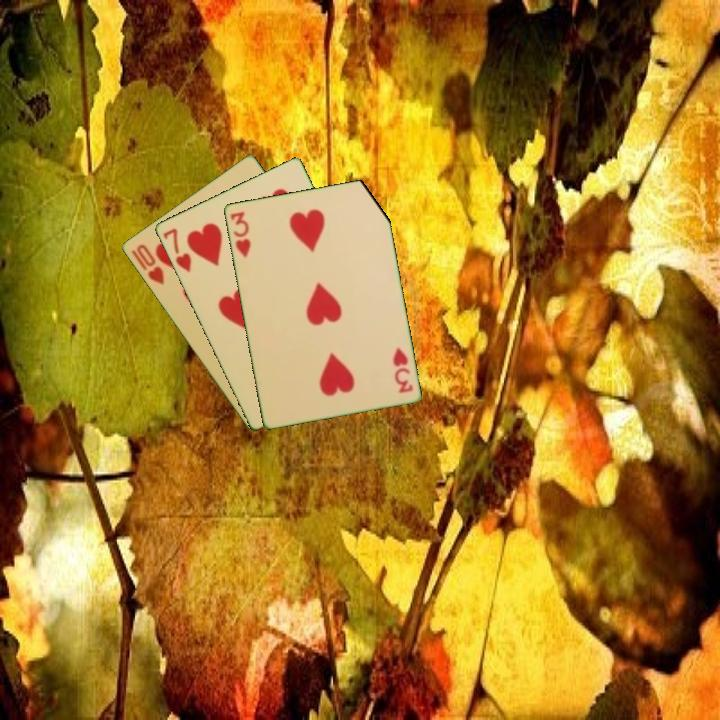10h: (127, 240, 167, 288)
3h: (226, 208, 253, 260), (389, 344, 415, 396)
7h: (159, 224, 194, 275)
